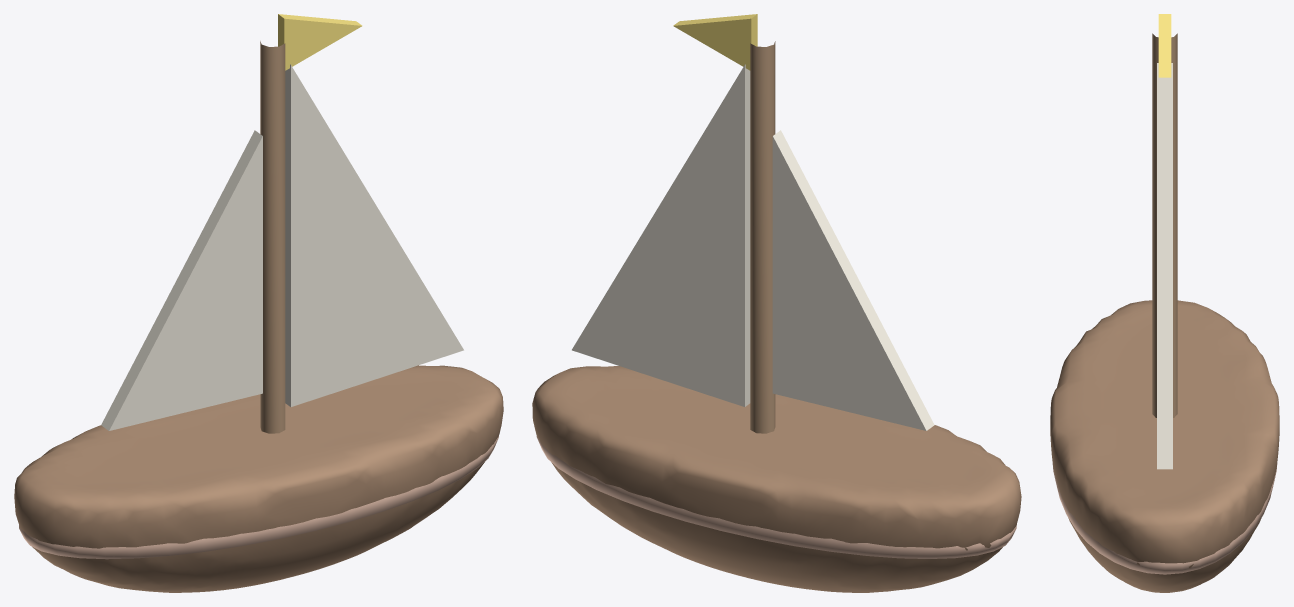
File: MessyMemoryBoat.glb
The picture shows the model from 3 angles, left to right: view 1: azimuth 30°, elevation 25°; view 2: azimuth 150°, elevation 25°; view 3: azimuth 270°, elevation 25°; orthographic projection.
Visible parts, largest first — view 1: Hull, Sail, Mast, Stripe, Flag; view 2: Hull, Sail, Mast, Stripe, Flag; view 3: Hull, Sail, Mast, Stripe, Flag.
Part boxes in pixels (x1,y1,x2,y2): Hull: (14, 365, 503, 592); Sail: (101, 64, 463, 430); Mast: (260, 41, 285, 433); Stripe: (19, 436, 498, 559); Flag: (278, 14, 362, 70); Hull: (532, 366, 1021, 592); Sail: (572, 64, 934, 430); Mast: (750, 41, 775, 433); Stripe: (536, 436, 1016, 558); Flag: (673, 14, 757, 70); Hull: (1050, 300, 1279, 592); Sail: (1157, 63, 1172, 469); Mast: (1152, 33, 1177, 417); Stripe: (1052, 464, 1277, 574); Flag: (1158, 14, 1171, 77).
Bounding box in the file's own units: 1.69 × 1.88 × 0.7214.
